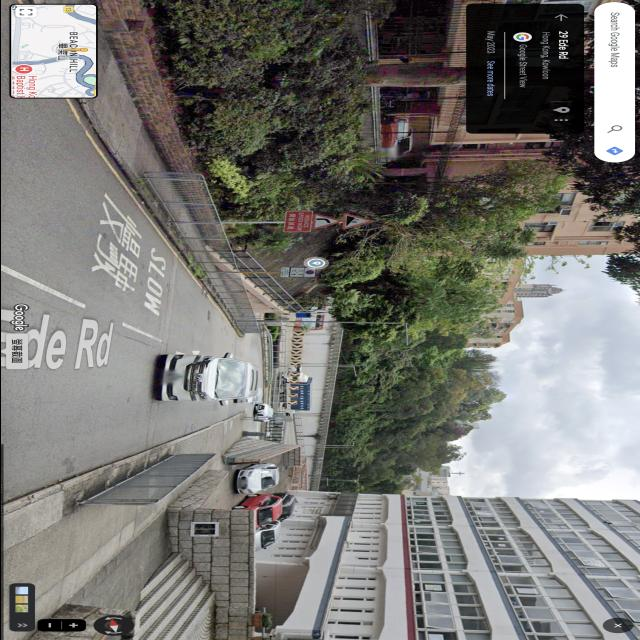Order-Sign: (289, 268, 315, 277), (278, 268, 288, 278)
Warning-Sign: (282, 211, 310, 232), (342, 214, 373, 230), (312, 214, 342, 230)
